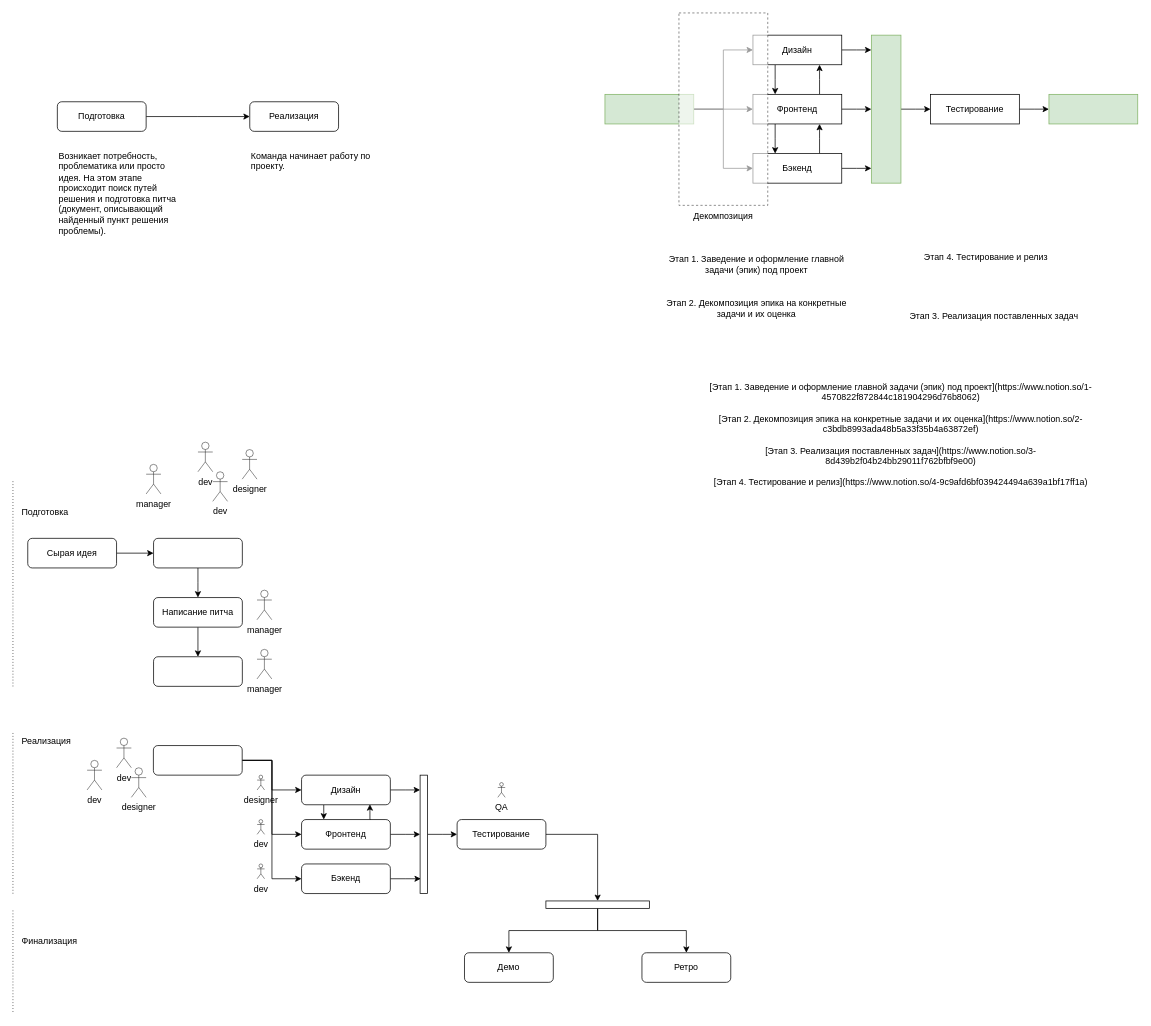
Image size: 1151x1026. Some labels were removed from this diagram. Each missing label, with the centre of its shape:
Декомпозиция эпика: the point at 197,760
Заведение эпика: the point at 197,671
Проведение брейншторма: the point at 197,553
Результат: the point at 886,108
Релиз: the point at 1093,109
Скетч: the point at 649,109
